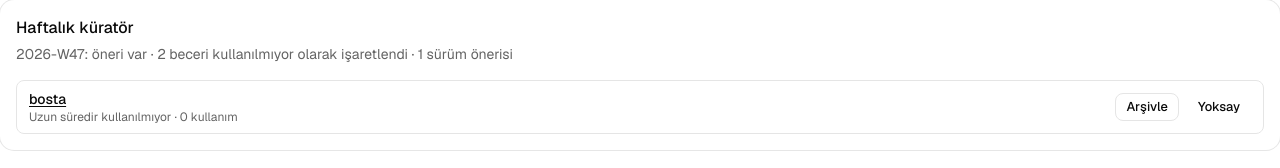
Test case: CuratorPanel › shows the latest run and archives a suggested skill
Expected: the text "2026-W47: öneri var" is shown, [16,45,513,63]
Expected: the list item with test id "suggestion-bosta" shows "Uzun süredir kullanılmıyor", [29,109,171,125]
Step 1. Click the button "Arşivle" → (1147, 107), box [1115,93,1179,121]
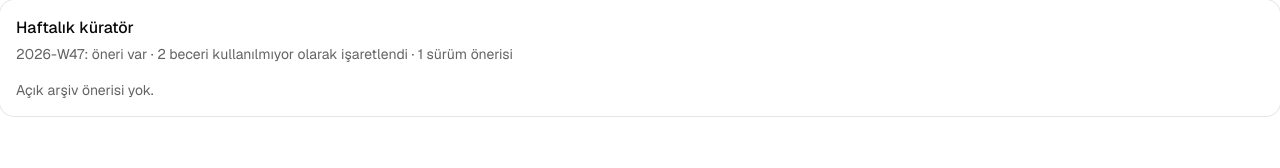
Now the text "Açık arşiv önerisi yok." is shown, box [16,81,154,99]
